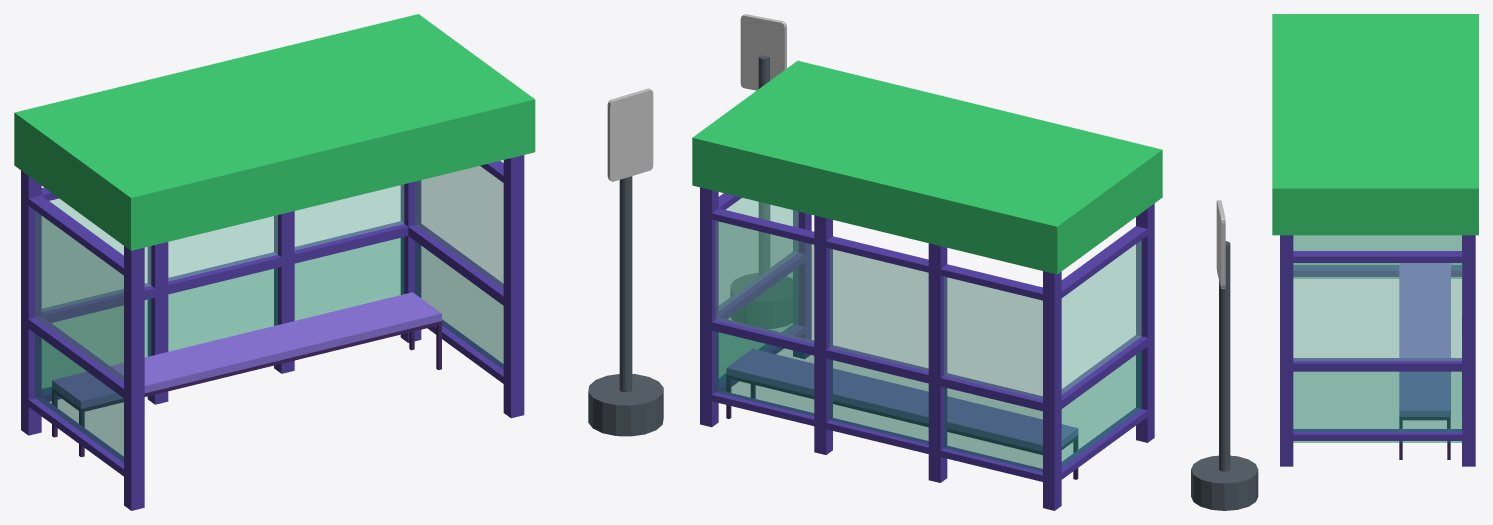
File: BusStop.fbx_Collection.fbx
3 views of the same model, side by side, from view 1: azimuth 30°, elevation 25°; view 2: azimuth 150°, elevation 25°; view 3: azimuth 270°, elevation 25° (orthographic). The views are drawn at different scales.
Parts seen in each view (by area): view 1: BusStop; view 2: BusStop; view 3: BusStop.
Part boxes in pixels (x1=…): BusStop: x1=14, y1=14, x2=663, y2=510; BusStop: x1=692, y1=14, x2=1162, y2=510; BusStop: x1=1191, y1=14, x2=1478, y2=510.
Bounding box in the file's own units: 558 × 991 × 618.
